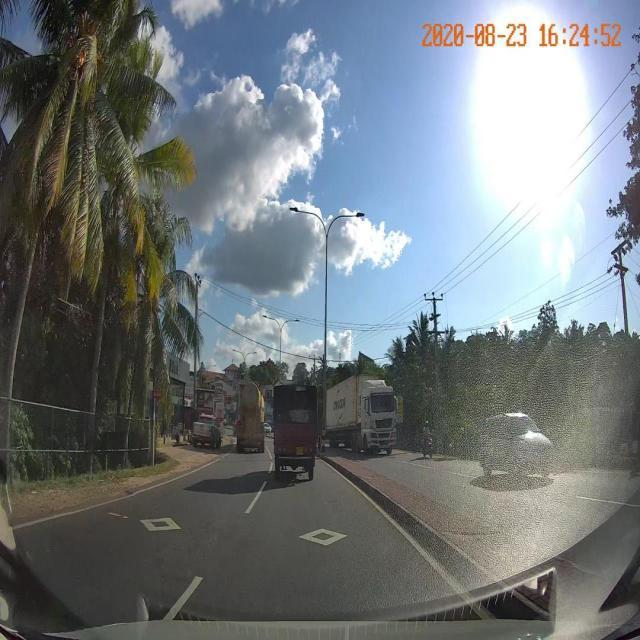Liniya 1: (321, 458, 463, 592), (12, 459, 217, 532), (160, 572, 210, 619), (574, 494, 640, 510), (244, 479, 270, 515), (267, 461, 274, 475)
Romb: (302, 525, 346, 547), (141, 515, 180, 531)
